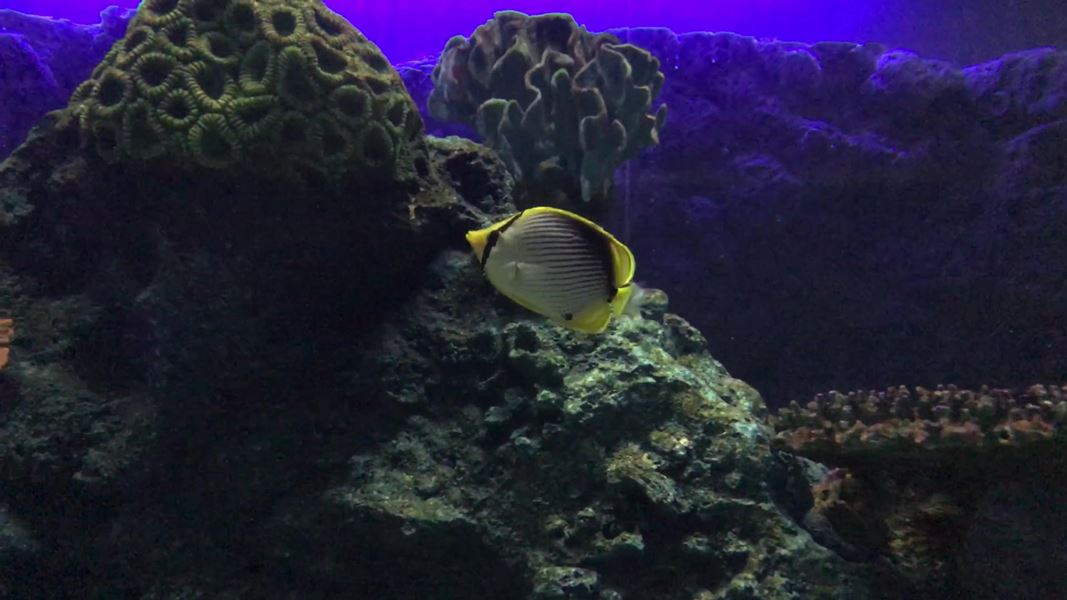Black-backed butterflyfish: (453, 200, 659, 347)
